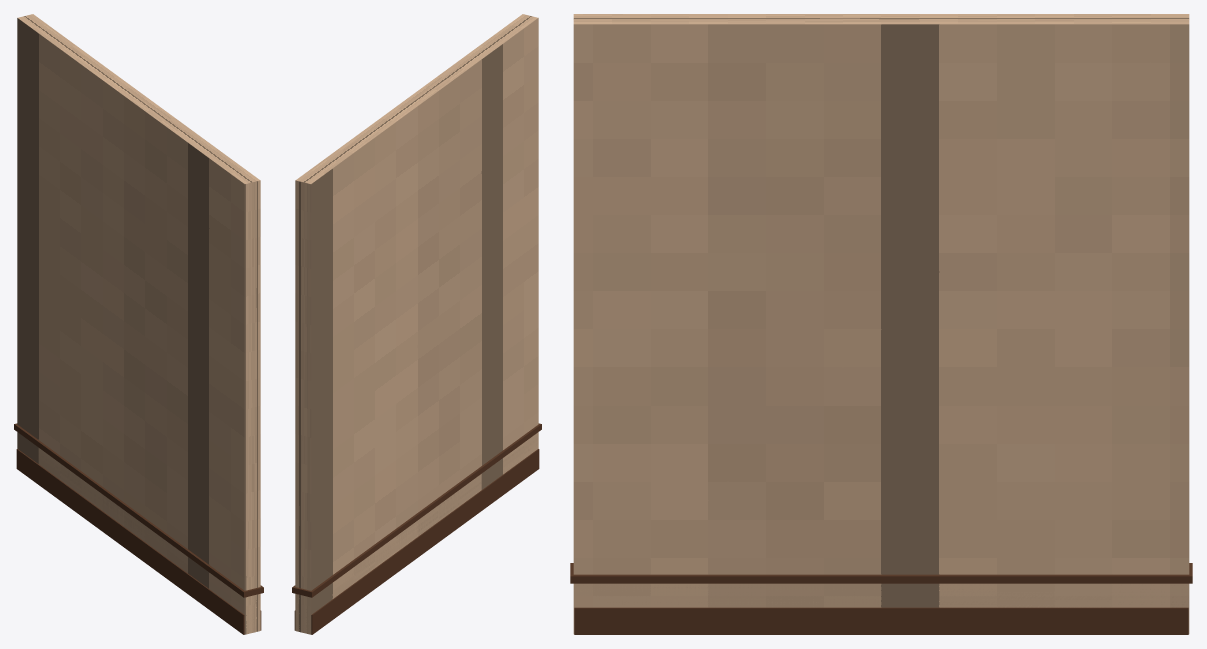
File: stair_side.glb
The picture shows the model from 3 angles, left to right: view 1: azimuth 30°, elevation 25°; view 2: azimuth 150°, elevation 25°; view 3: azimuth 270°, elevation 25°; orthographic projection. The views are drawn at different scales.
Parts seen in each view (by area): view 1: Box1, Box2, Box4, Box3; view 2: Box1, Box2, Box3, Box4; view 3: Box1, Box2, Box4, Box3.
Part boxes in pixels (box(x1,y1,x2,y2)): Box1: box(17, 14, 260, 634); Box2: box(16, 449, 261, 634); Box4: box(14, 423, 263, 597); Box3: box(17, 432, 260, 633); Box1: box(295, 14, 538, 634); Box2: box(294, 449, 539, 634); Box3: box(295, 432, 538, 633); Box4: box(292, 423, 541, 597); Box1: box(573, 14, 1189, 633); Box2: box(574, 607, 1188, 634); Box4: box(570, 563, 1192, 583); Box3: box(573, 583, 1188, 619).
Size of the model in its own units: 0.19 by 4.1 by 3.79.
2 materials, 1 textured.
